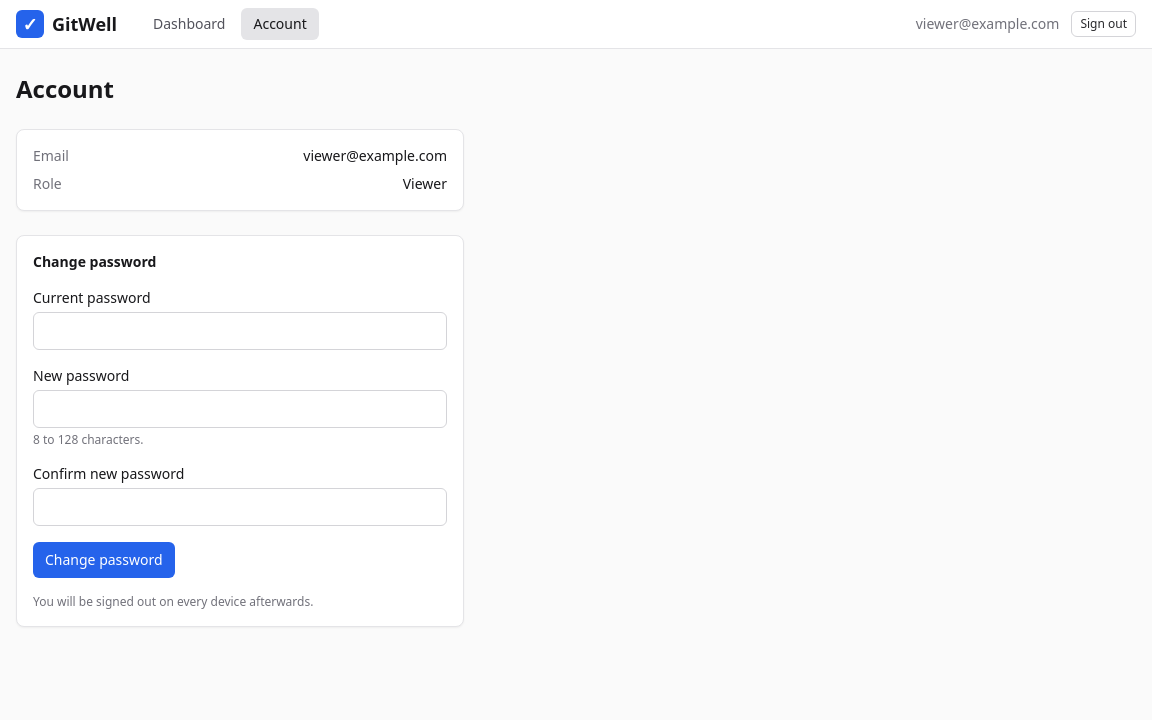
Test: account page › signs out and returns to login after a successful change
Step 1. Type "old-password-1" into the password field labelled "Current password" → [240, 331], box [33,312,447,350]
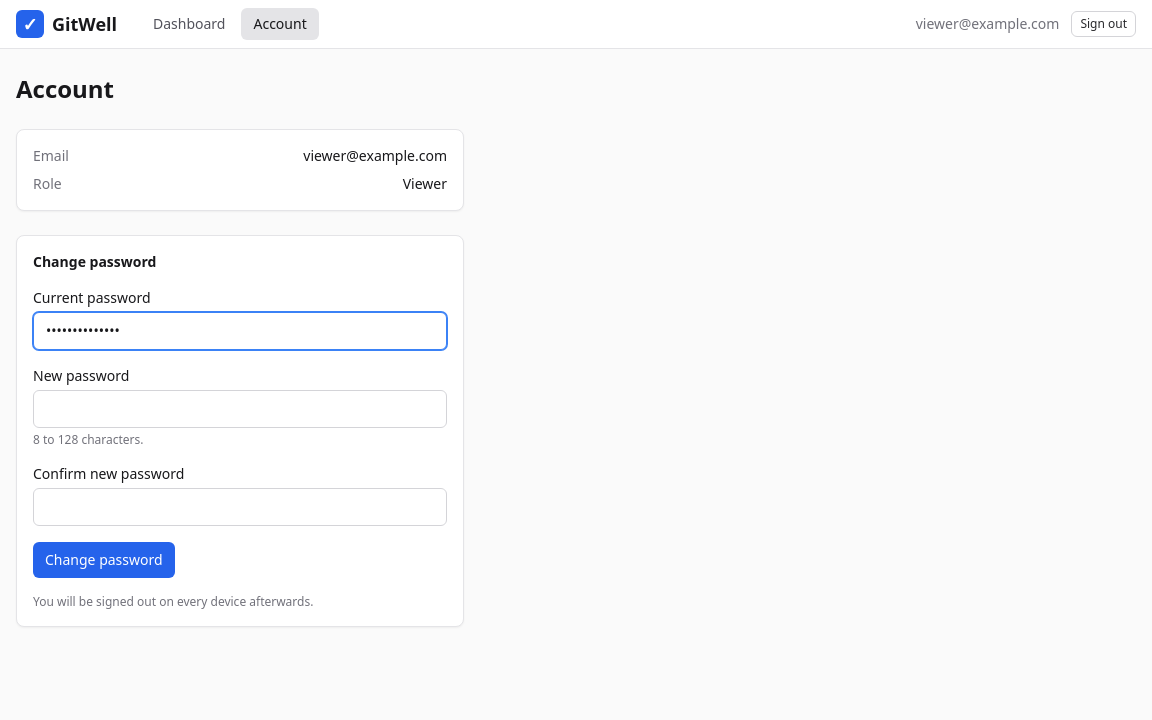
Step 2. Type "new-password-1" into the password field labelled "New password" → [240, 409], box [33,390,447,428]
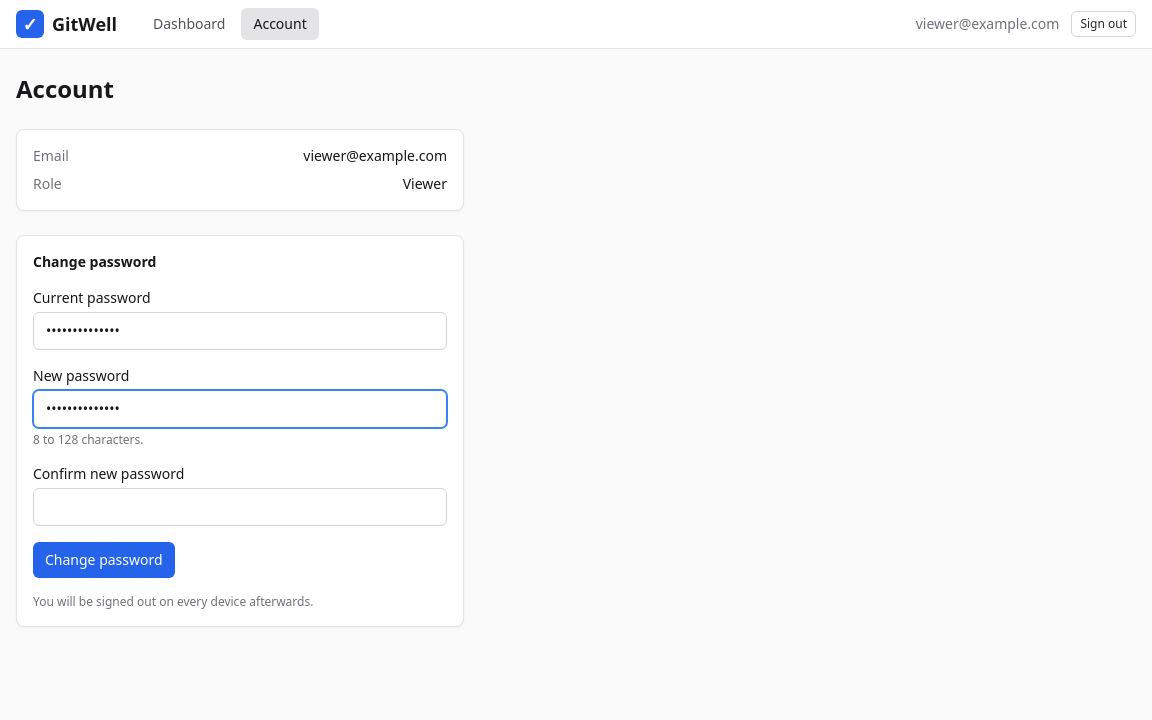
Step 3. Type "new-password-1" into the password field labelled "Confirm new password" → [240, 507], box [33,488,447,526]
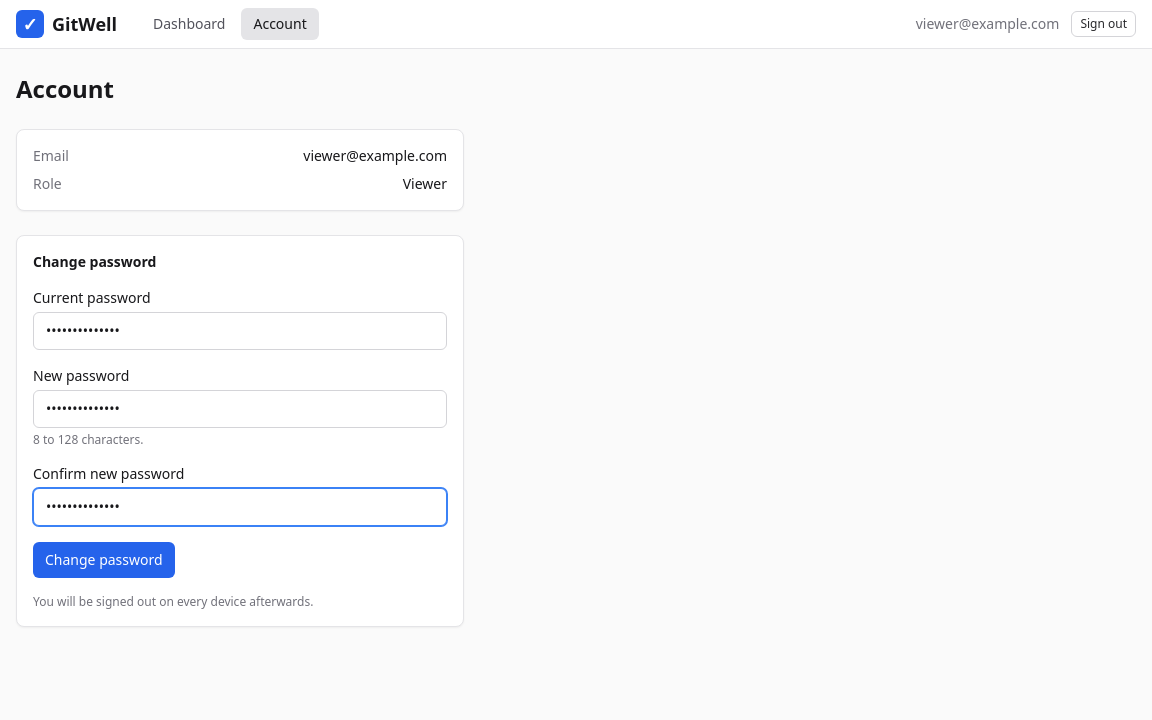
Step 4. Click the button "Change password" → [104, 560], box [33,542,175,578]
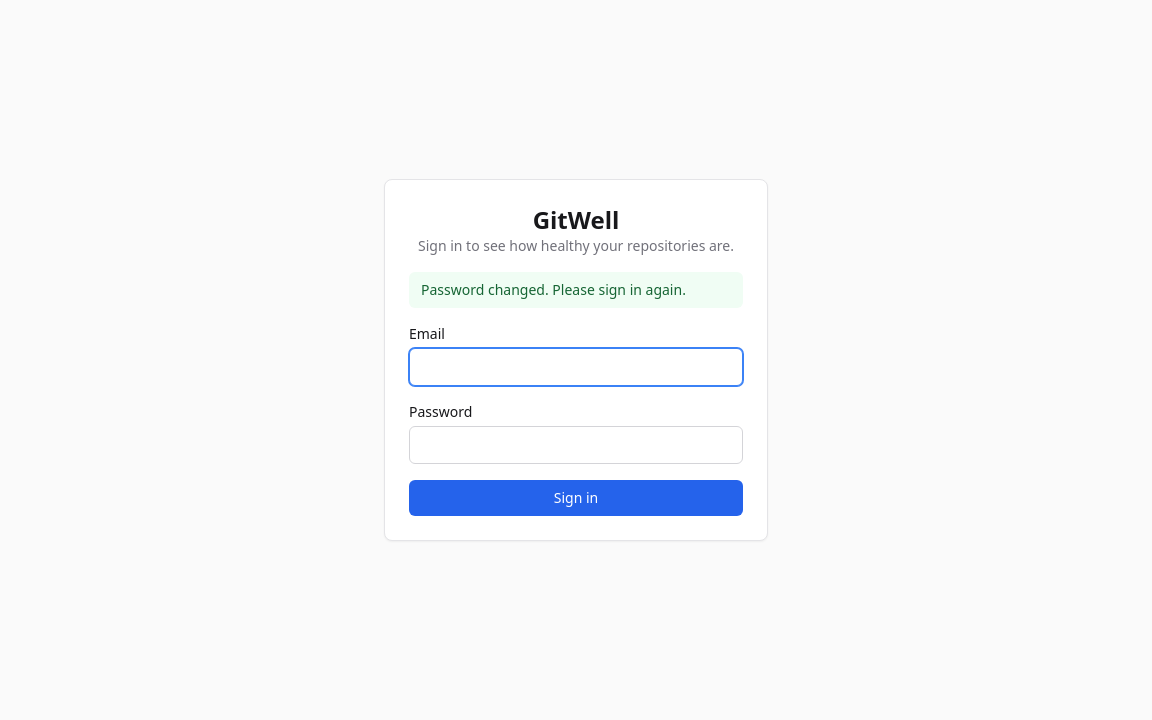
Expected: the text "Password changed. Please sign in again." is shown, [409,272,743,308]
